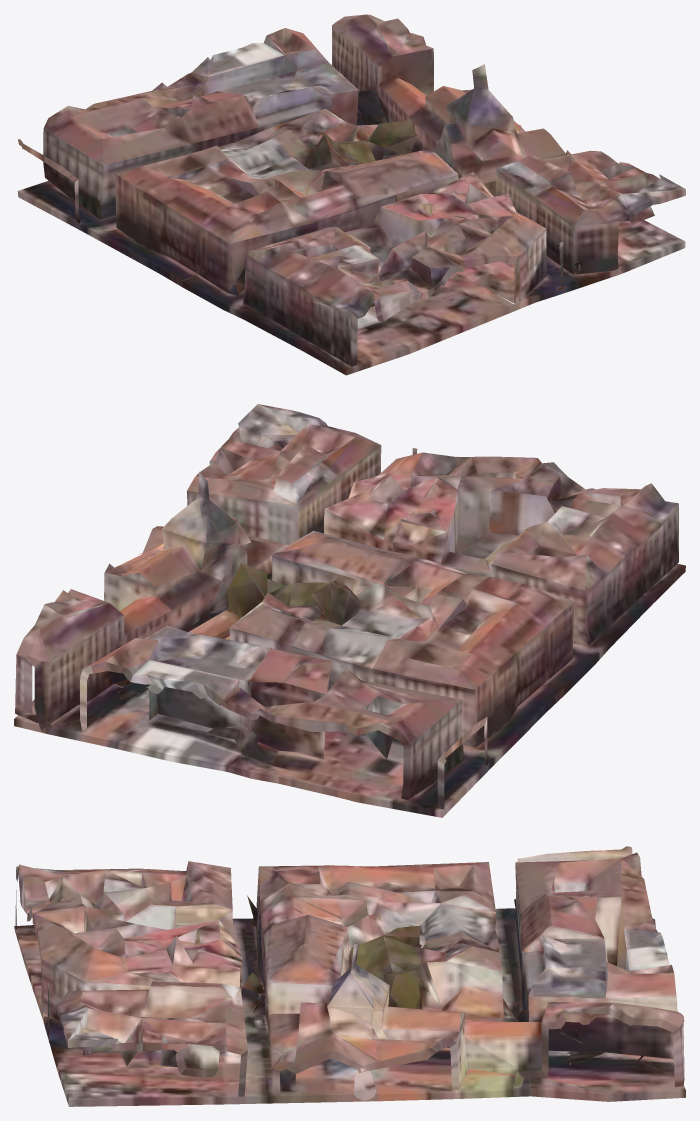
The picture shows the model from 3 angles, top to bottom: view 1: azimuth 30°, elevation 25°; view 2: azimuth 150°, elevation 25°; view 3: azimuth 270°, elevation 25°; orthographic projection. The views are drawn at different scales.
Parts seen in each view (by area): view 1: Mesh_0; view 2: Mesh_0; view 3: Mesh_0.
Boxes of the visible parts, x1,y1,x2,y2 form: Mesh_0: (17, 14, 685, 375); Mesh_0: (14, 404, 685, 817); Mesh_0: (14, 846, 685, 1106).
Bounding box in the file's own units: 134 × 42.54 × 165.
Materials: 1 (1 with a texture image).
